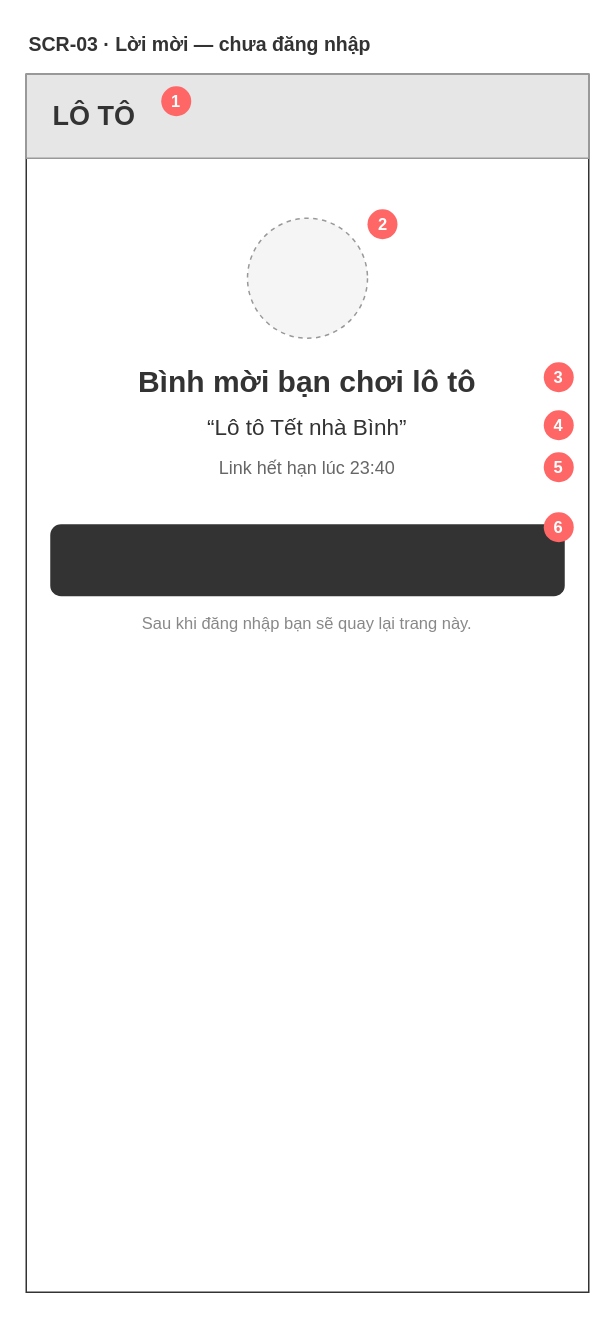
Image size: 615x1319. Some labels were removed from this diagram. Here are the shapes that lost their labels. From the top down, the box of each, then its label:
(246, 217, 368, 338): Ảnh host
(50, 524, 564, 596): Đăng nhập để vào phòng
